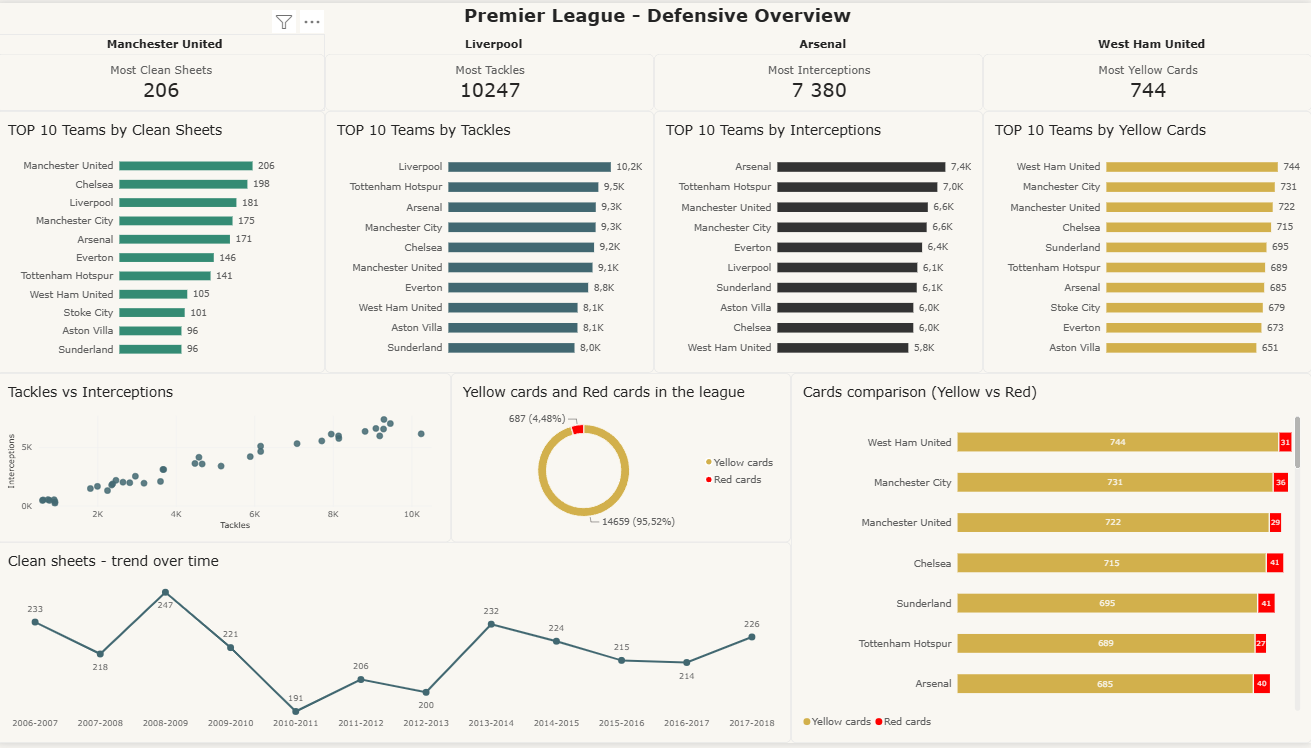

Layout of this report page (visuals, bound fields, positions):
{"tool":"powerbi","page":{"name":"PL - Defensive Overview","canvas":[1920,1080],"ordinal":2},"visuals":[{"type":"textbox","box":[10.2,0,1909.8,62.7],"z":0},{"type":"cardVisual","fields":{"Data":["Sum(public stats.clean_sheet)"],"Rows":["public stats.team"]},"box":[0,45.2,480,112.3],"z":1000},{"type":"cardVisual","fields":{"Data":["Sum(public stats.total_tackle)"],"Rows":["public stats.team"]},"box":[480,45.2,480,112.3],"z":2000},{"type":"cardVisual","fields":{"Data":["Sum(public stats.interception)"],"Rows":["public stats.team"]},"box":[960,45.2,480,112.3],"z":3000},{"type":"cardVisual","fields":{"Data":["Sum(public stats.total_yel_card)"],"Rows":["public stats.team"]},"box":[1440,45.2,480,112.3],"z":4000},{"type":"barChart","title":"TOP 10 Teams by Clean Sheets","fields":{"Category":["public stats.team"],"Y":["Sum(public stats.clean_sheet)"]},"box":[0,157.6,480,382.2],"z":5000},{"type":"barChart","title":"TOP 10 Teams by Tackles","fields":{"Y":["Sum(public stats.total_tackle)"],"Category":["public stats.team"]},"box":[480,157.6,480,382],"z":6000},{"type":"barChart","title":"TOP 10 Teams by Interceptions","fields":{"Category":["public stats.team"],"Y":["Sum(public stats.interception)"]},"box":[960,157.6,480,382],"z":7000},{"type":"barChart","title":"TOP 10 Teams by Yellow Cards","fields":{"Category":["public stats.team"],"Y":["Sum(public stats.total_yel_card)"]},"box":[1440,157.6,480,382],"z":8000},{"type":"donutChart","title":"Yellow cards and Red cards in the league","fields":{"Y":["Sum(public stats.total_yel_card)","Sum(public stats.total_red_card)"]},"box":[663.8,539.8,496,246.6],"z":9000},{"type":"barChart","title":"Cards comparison (Yellow vs Red)","fields":{"Category":["public stats.team"],"Y":["Sum(public stats.total_yel_card)","Sum(public stats.total_red_card)"]},"box":[1159.9,539.8,760.1,539.8],"z":10000},{"type":"scatterChart","title":"Tackles vs Interceptions","fields":{"X":["Sum(public stats.total_tackle)"],"Y":["Sum(public stats.interception)"],"Category":["public stats.team"]},"box":[0,539.8,663.8,246.6],"z":11000},{"type":"lineChart","title":"Clean sheets - trend over time","fields":{"Y":["Sum(public stats.clean_sheet)"],"Category":["public stats.season"]},"box":[0,786.4,1159.9,293.3],"z":12000}]}

Visuals, with their boxes in screenshot pixels (x1, y1, x2, y2), scaled from the page's 1920x1080 canvas onto the 1311x748 screenshot:
textbox: Rect(7, 0, 1310, 43)
cardVisual - Sum(public stats.clean_sheet) x public stats.team: Rect(0, 31, 328, 109)
cardVisual - Sum(public stats.total_tackle) x public stats.team: Rect(328, 31, 656, 109)
cardVisual - Sum(public stats.interception) x public stats.team: Rect(656, 31, 983, 109)
cardVisual - Sum(public stats.total_yel_card) x public stats.team: Rect(983, 31, 1310, 109)
"TOP 10 Teams by Clean Sheets" barChart: Rect(0, 109, 328, 374)
"TOP 10 Teams by Tackles" barChart: Rect(328, 109, 656, 374)
"TOP 10 Teams by Interceptions" barChart: Rect(656, 109, 983, 374)
"TOP 10 Teams by Yellow Cards" barChart: Rect(983, 109, 1310, 374)
"Yellow cards and Red cards in the league" donutChart: Rect(453, 374, 792, 545)
"Cards comparison (Yellow vs Red)" barChart: Rect(792, 374, 1310, 747)
"Tackles vs Interceptions" scatterChart: Rect(0, 374, 453, 545)
"Clean sheets - trend over time" lineChart: Rect(0, 545, 792, 747)
